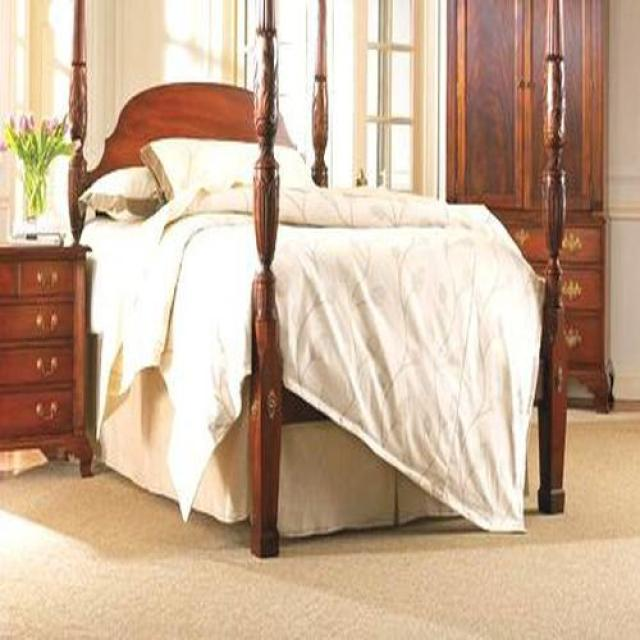bed: (78, 83, 543, 561)
